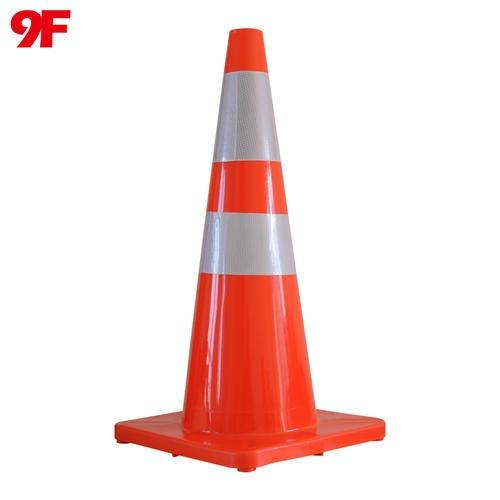cone_barrel: (162, 28, 333, 458)
